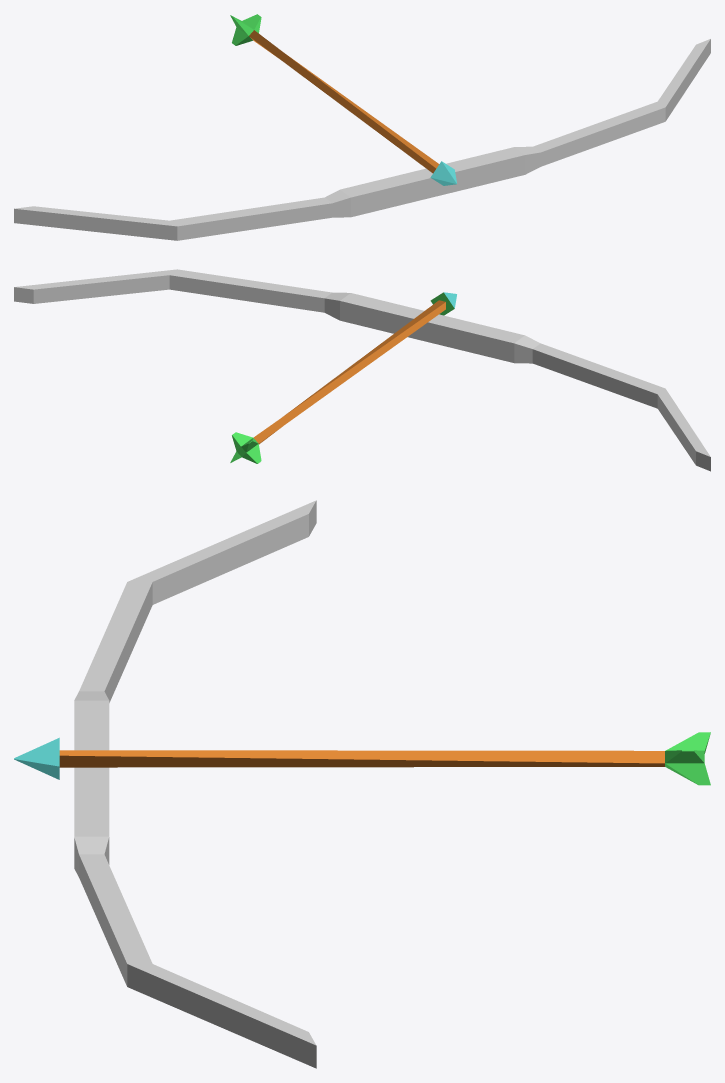
Rendered from Bow.fbx.
The picture shows the model from 3 angles, top to bottom: view 1: azimuth 30°, elevation 25°; view 2: azimuth 150°, elevation 25°; view 3: azimuth 270°, elevation 25°; orthographic projection. The views are drawn at different scales.
Visible parts, largest first — view 1: Bow, Arrow; view 2: Bow, Arrow; view 3: Bow, Arrow.
Boxes of the visible parts, x1=… form: Bow: x1=14, y1=39, x2=710, y2=240; Arrow: x1=230, y1=14, x2=456, y2=185; Bow: x1=14, y1=269, x2=710, y2=471; Arrow: x1=230, y1=292, x2=456, y2=463; Bow: x1=74, y1=500, x2=316, y2=1068; Arrow: x1=14, y1=732, x2=710, y2=785.
Bounding box in the file's own units: 1252 × 66.3 × 676.
